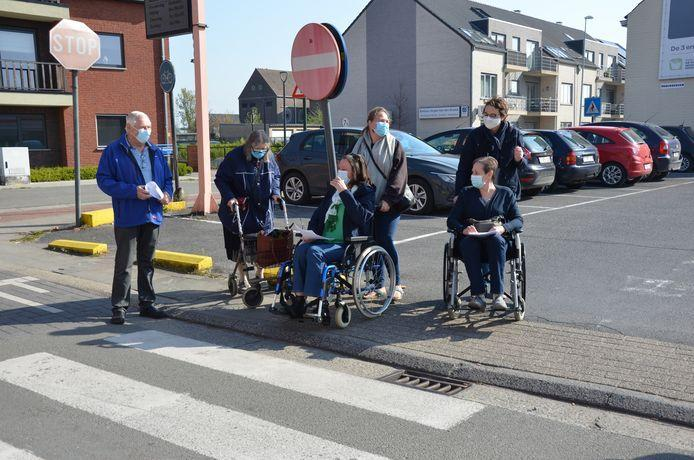wheelchair: (273, 155, 397, 326)
